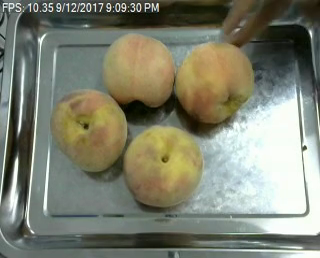Peach: (121, 126, 202, 207), (50, 88, 128, 172), (176, 41, 254, 123), (102, 33, 175, 107)
